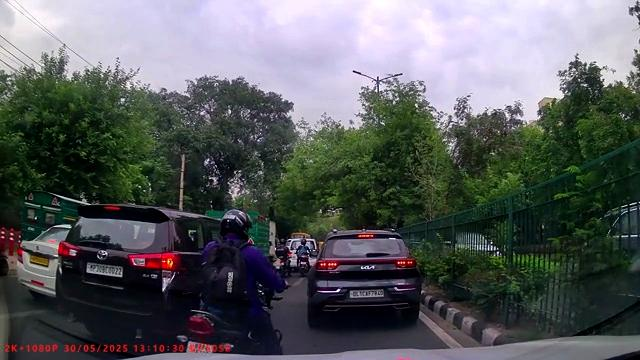motorcycle_with_helmet: (186, 207, 286, 351), (295, 239, 311, 276)
